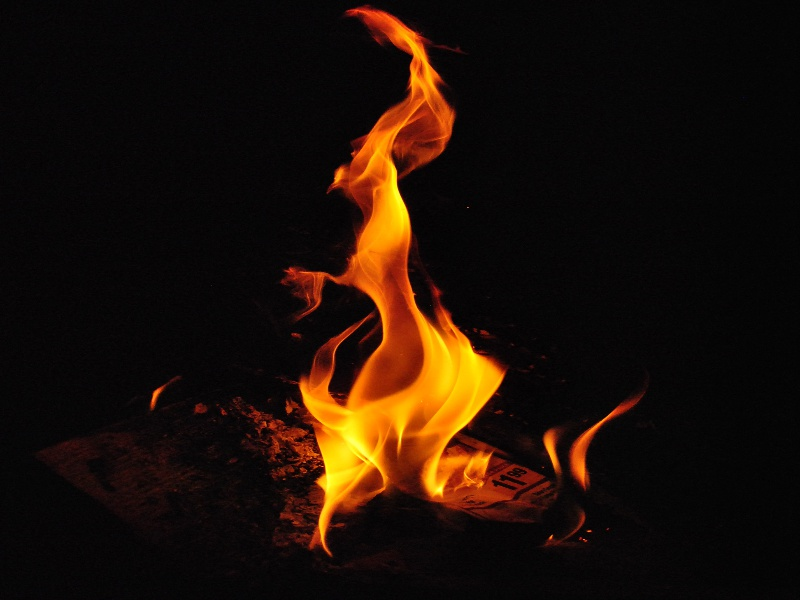fire: (228, 2, 512, 562), (542, 356, 653, 506)
